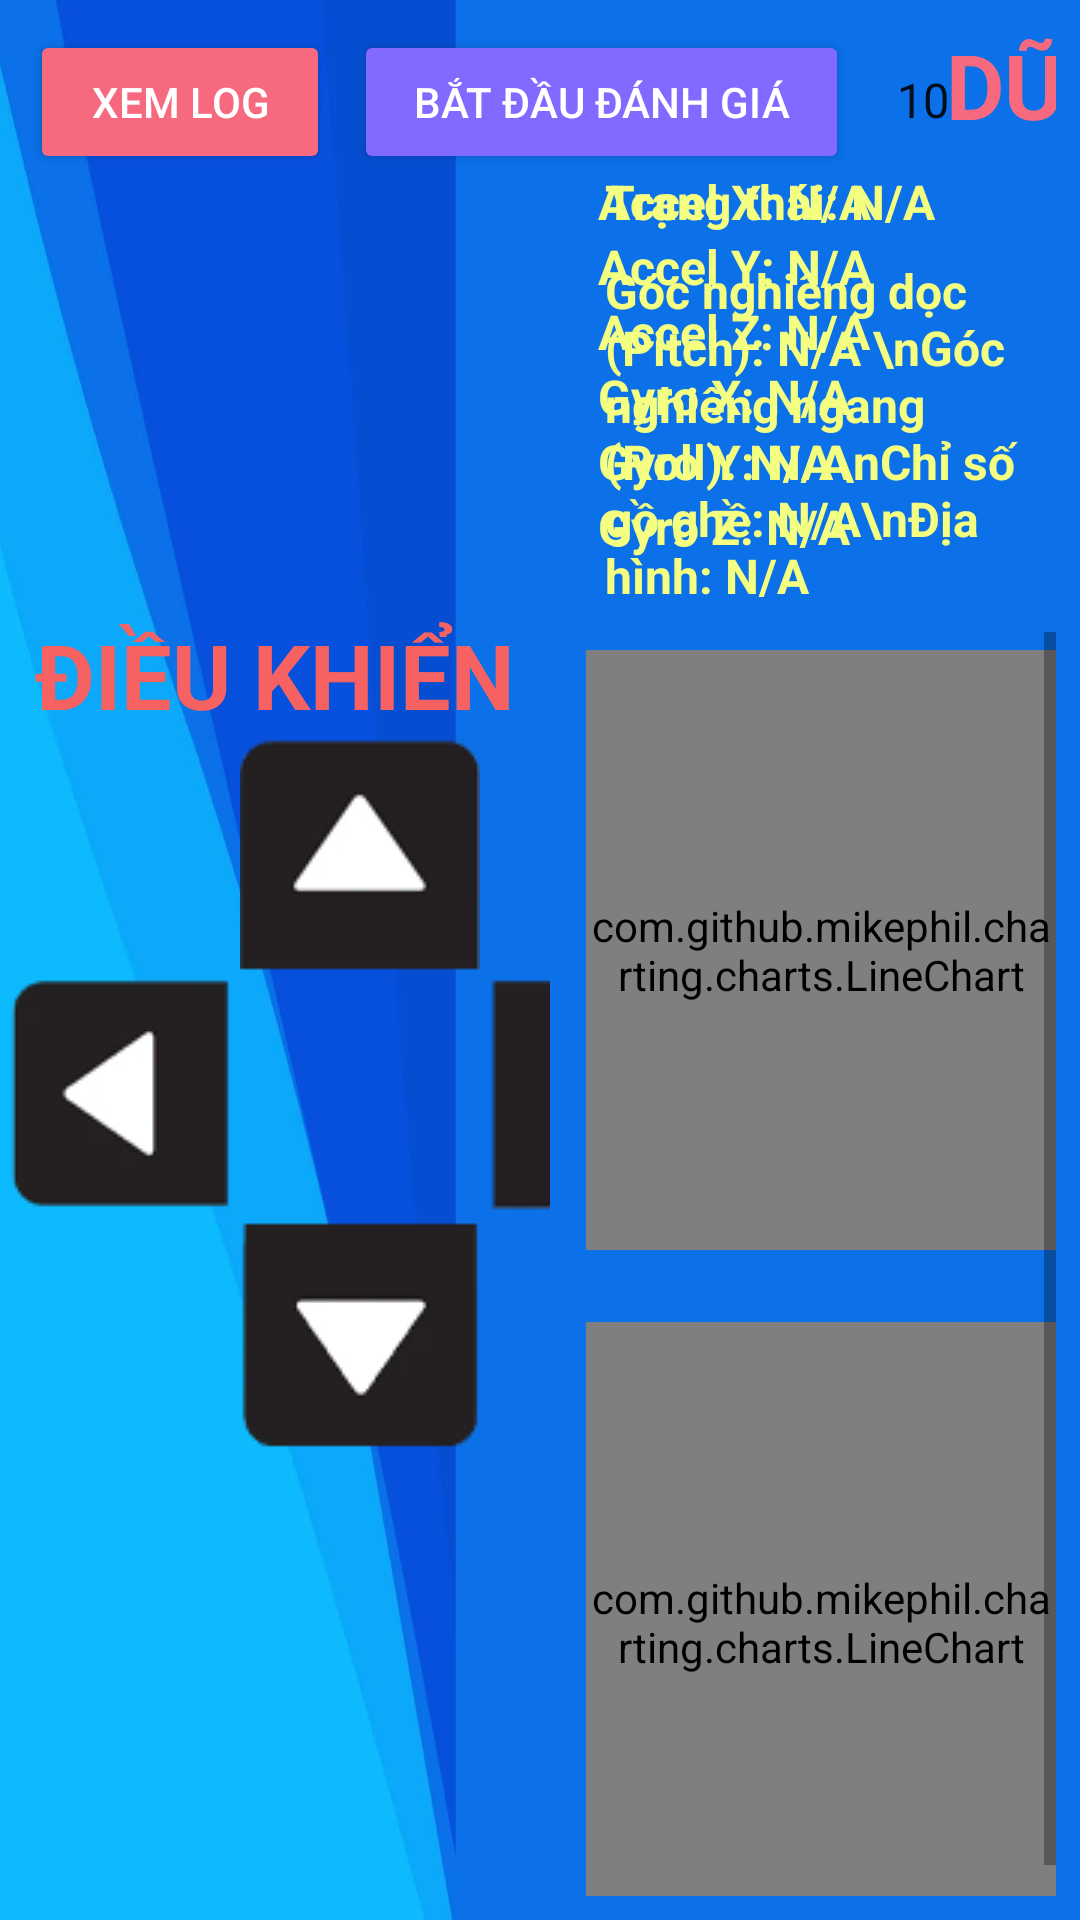

Where to tap for icons on this 1080x1920 app screen, as point (x, y):
arrow down: point (360, 1335)
arrow left: point (120, 1093)
arrow up: point (360, 855)
